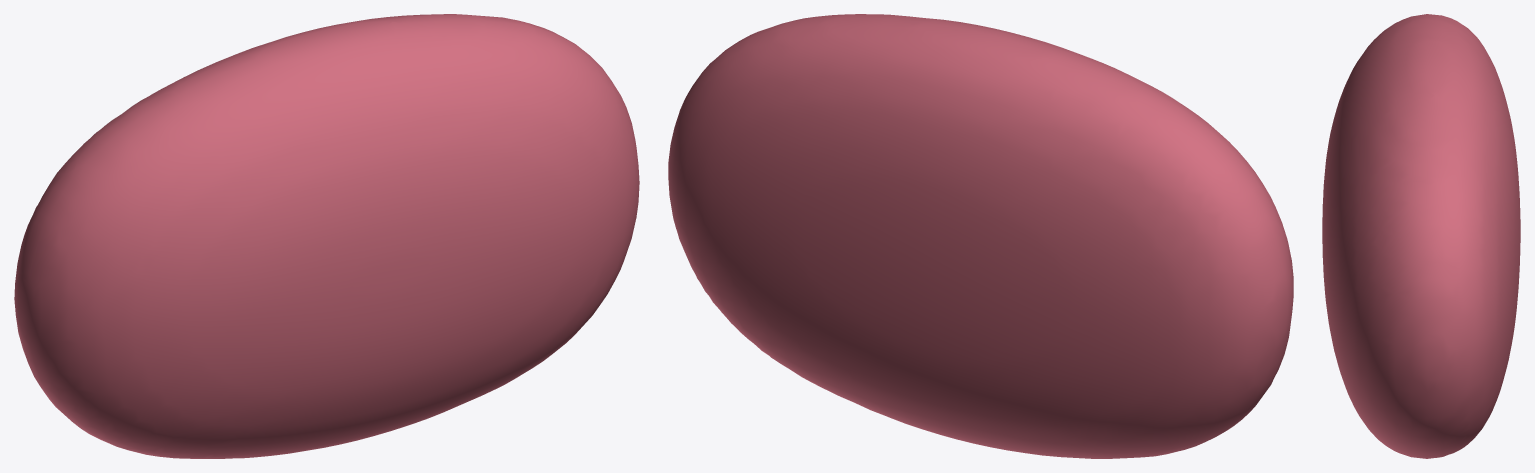
File: soap.obj
3 renders of one model, left to right at view 1: azimuth 30°, elevation 25°; view 2: azimuth 150°, elevation 25°; view 3: azimuth 270°, elevation 25°, orthographic. The views are drawn at different scales.
Parts seen in each view (by area): view 1: 16878_bar_of_soap_V1.001; view 2: 16878_bar_of_soap_V1.001; view 3: 16878_bar_of_soap_V1.001.
Part boxes in pixels (left/top/right/bottom): 16878_bar_of_soap_V1.001: left=14, top=14, right=639, bottom=458; 16878_bar_of_soap_V1.001: left=668, top=14, right=1293, bottom=458; 16878_bar_of_soap_V1.001: left=1322, top=14, right=1520, bottom=458.
Size of the model in its own units: 7.15 by 4.53 by 2.36.
